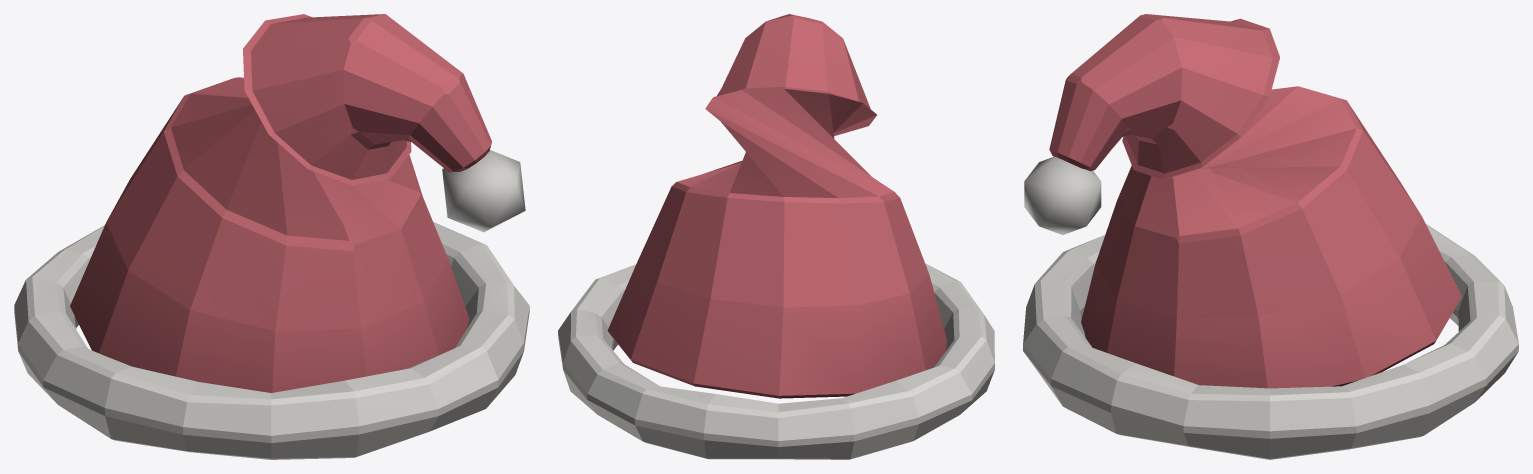
The model's file is resident_santa_hat.glb.
The picture shows the model from 3 angles, left to right: view 1: azimuth 30°, elevation 25°; view 2: azimuth 150°, elevation 25°; view 3: azimuth 270°, elevation 25°; orthographic projection. The views are drawn at different scales.
Size of the model in its own units: 1.34 by 1.06 by 1.32.
